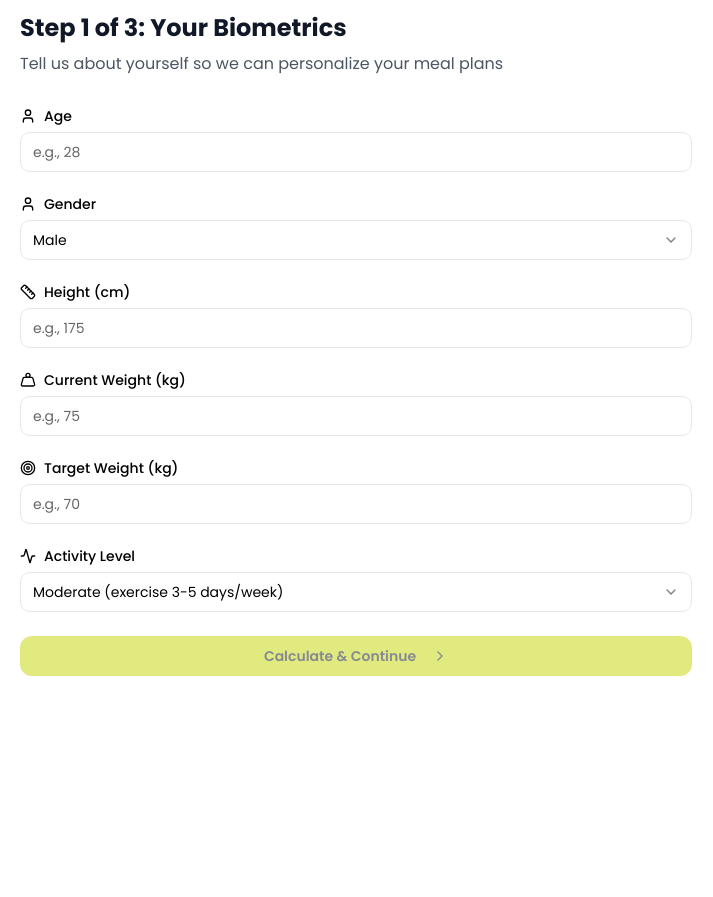
Test: BiometricsStep Component › AC3: BMI and BMR calculation with visual indicators › should calculate and display BMI correctly
Note: Fill in form with valid data
In the number field with placeholder "e.g., 28": coordinates (356, 152) [20,132,692,172], type "28"
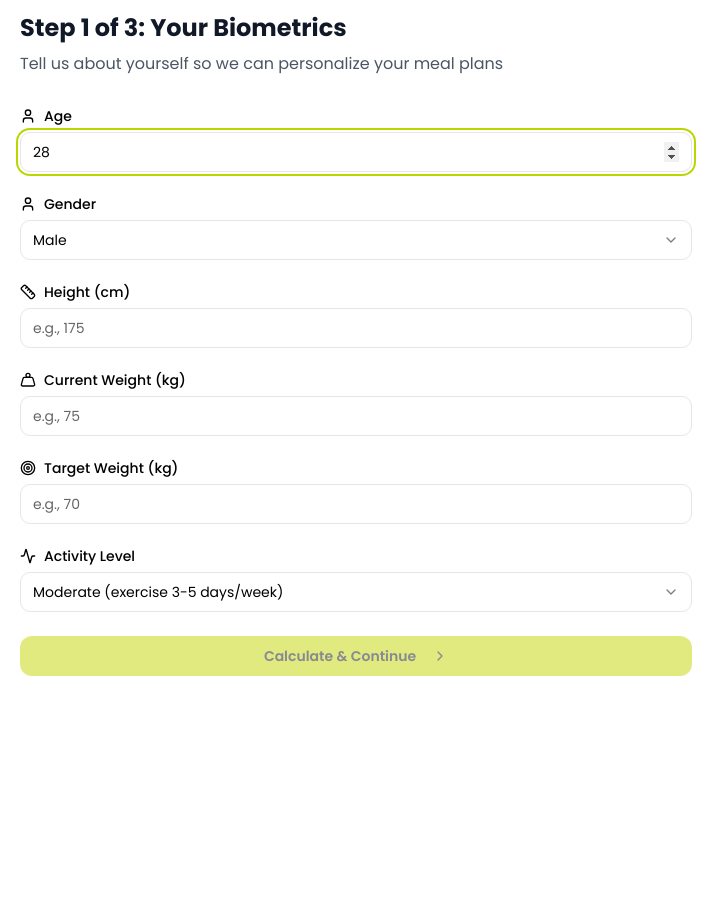
In the number field with placeholder "e.g., 175": coordinates (356, 328) [20,308,692,348], type "175"
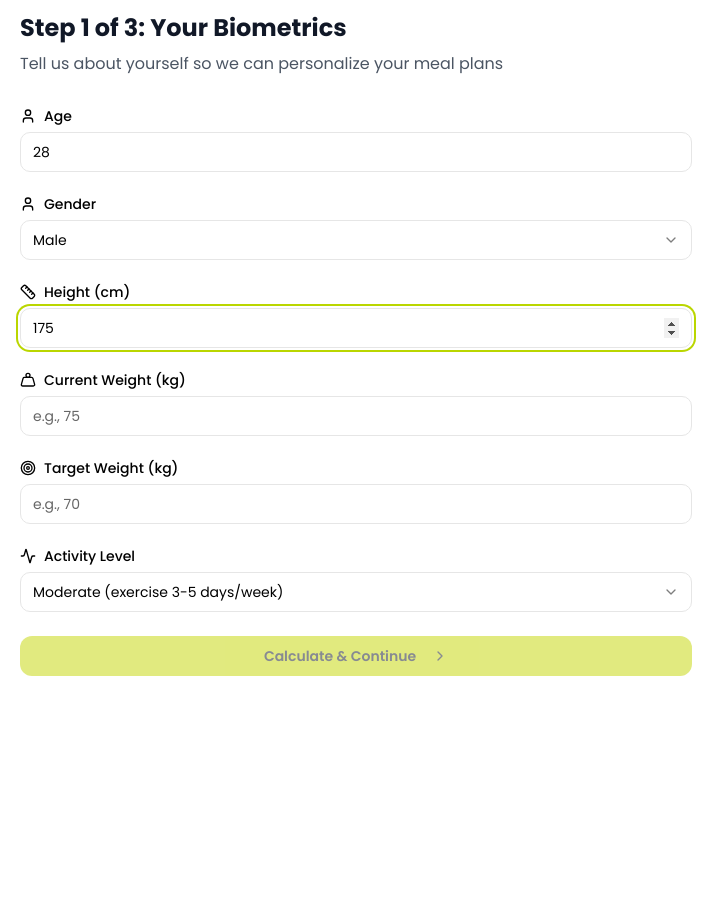
In the number field with placeholder "e.g., 75": coordinates (356, 416) [20,396,692,436], type "75"
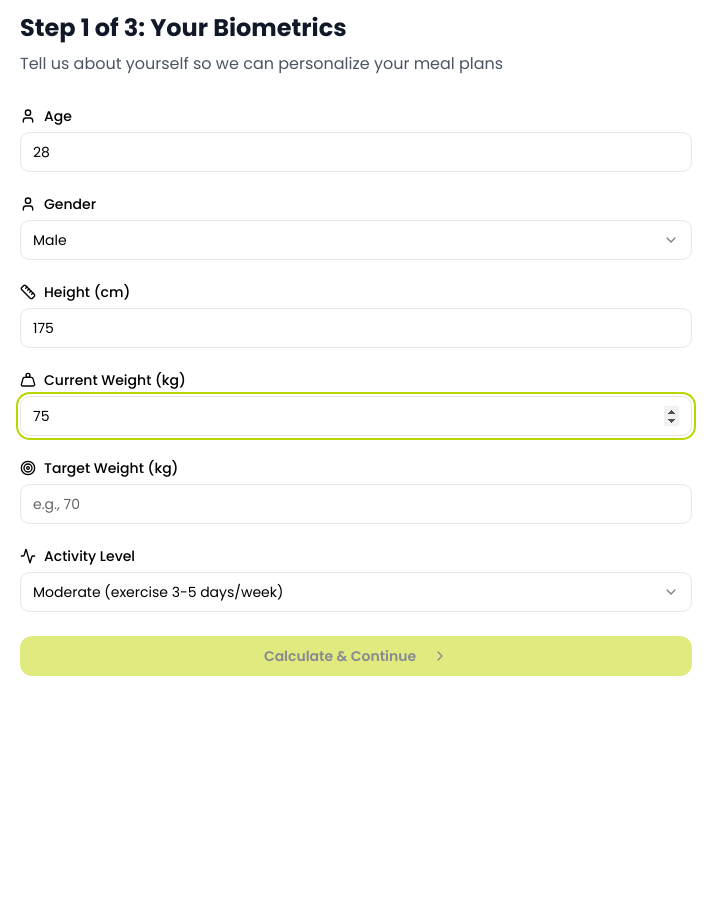
In the number field with placeholder "e.g., 70": coordinates (356, 504) [20,484,692,524], type "70"
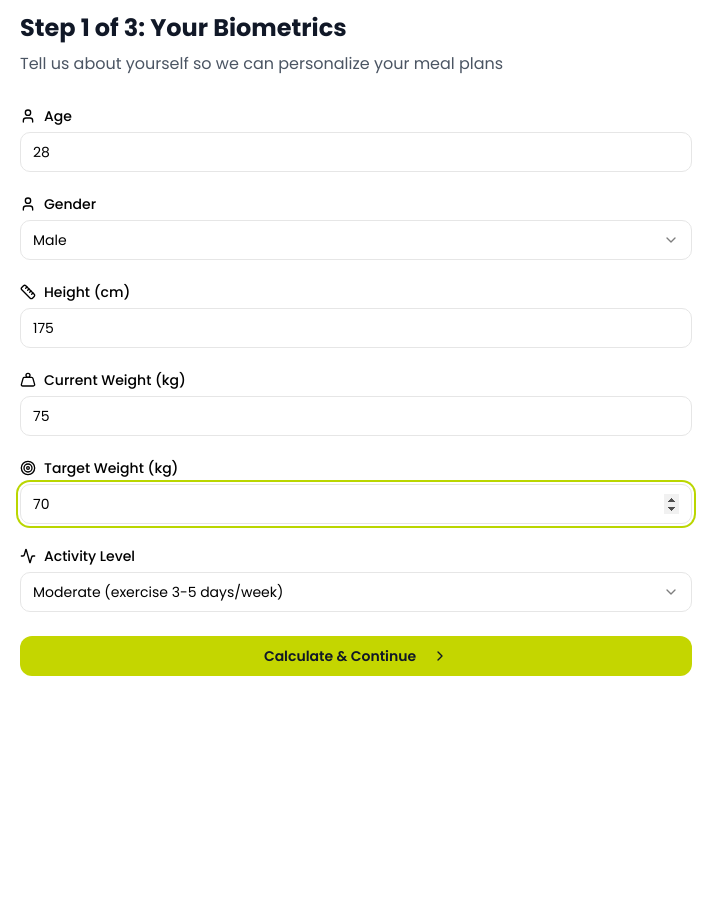
Click the button "Calculate & Continue": coordinates (356, 656) [20,636,692,676]
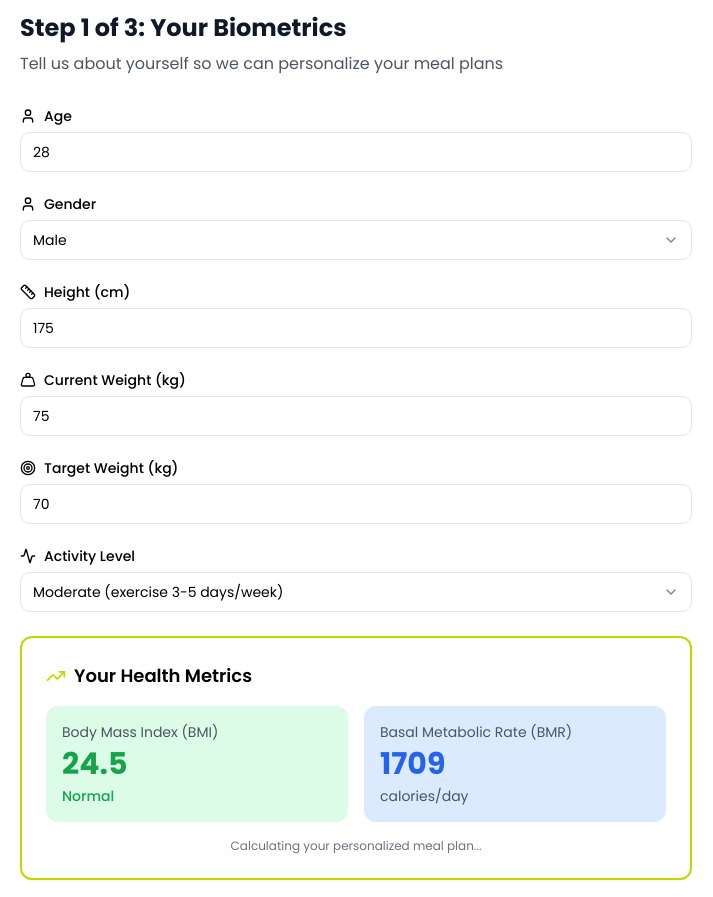
Now the heading "Your Health Metrics" is shown, box [74,662,252,690]
Now the text "24.5" is shown, box [62,743,127,785]
Now the text "Normal" is shown, box [62,786,114,806]
